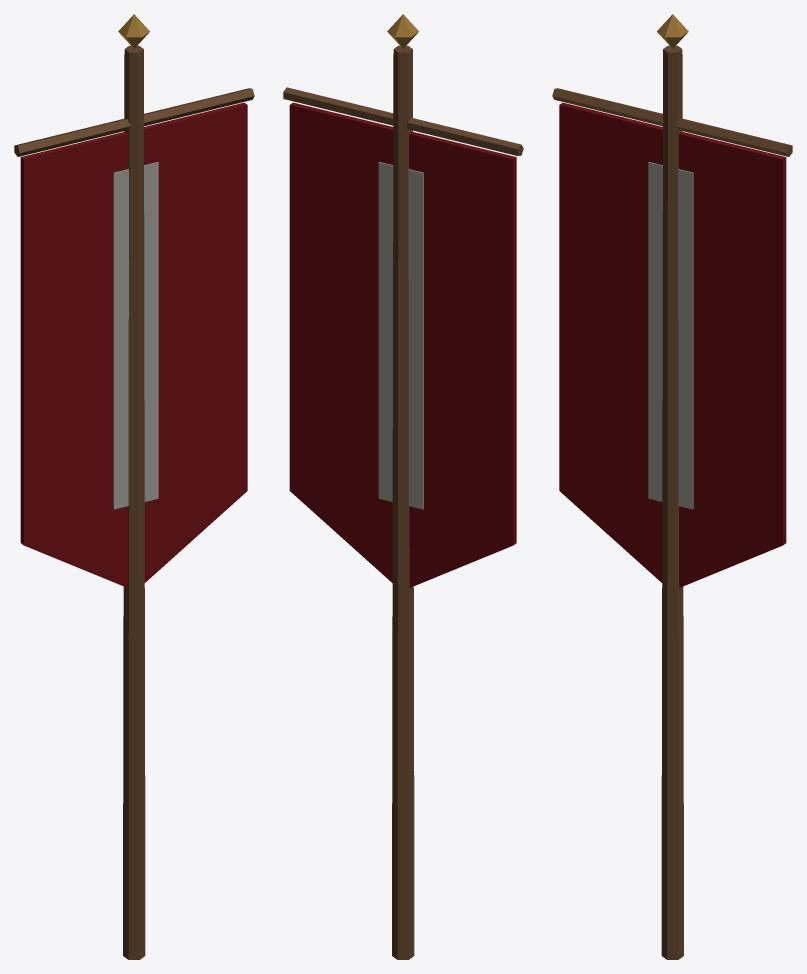
File: PilgrimBanner.fbx
The picture shows the model from 3 angles, left to right: view 1: azimuth 30°, elevation 25°; view 2: azimuth 150°, elevation 25°; view 3: azimuth 330°, elevation 25°; orthographic projection.
Visible parts, largest first — view 1: PilgrimBanner; view 2: PilgrimBanner; view 3: PilgrimBanner.
Part boxes in pixels (bbox=[...]): PilgrimBanner: bbox=[14, 14, 254, 959]; PilgrimBanner: bbox=[283, 14, 523, 959]; PilgrimBanner: bbox=[552, 14, 792, 959].
Bounding box in the file's own units: 0.84 × 3.22 × 0.1.
